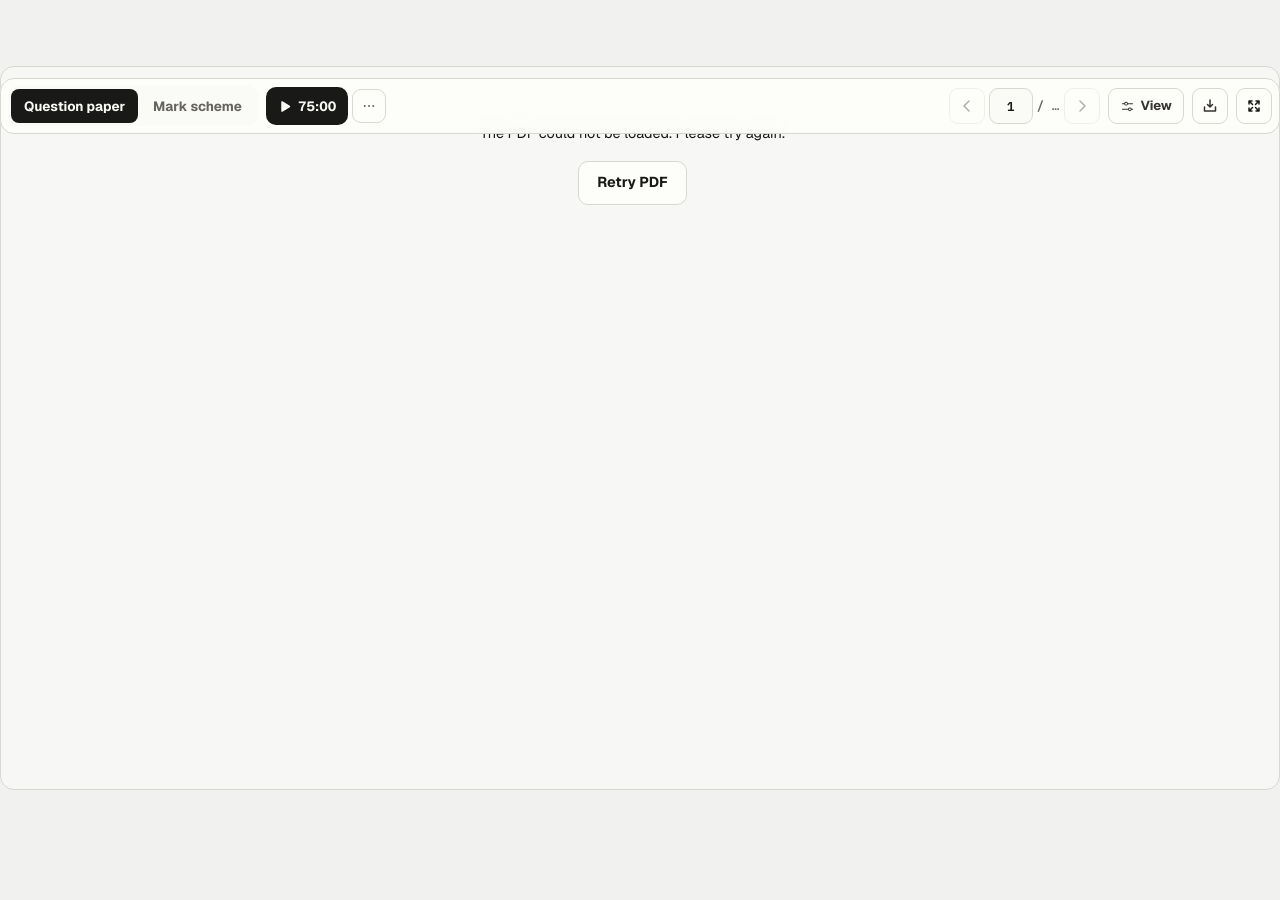
PastPaperReader › recovers from a failed PDF fetch with an explicit retry
The width and height of the screenshot is (1280, 900).
Expected: the message shows "The PDF could not be loaded", [480,124,785,142]
Click the button "Retry PDF" at (632, 183), box [578,161,687,205]
(page scrolled)
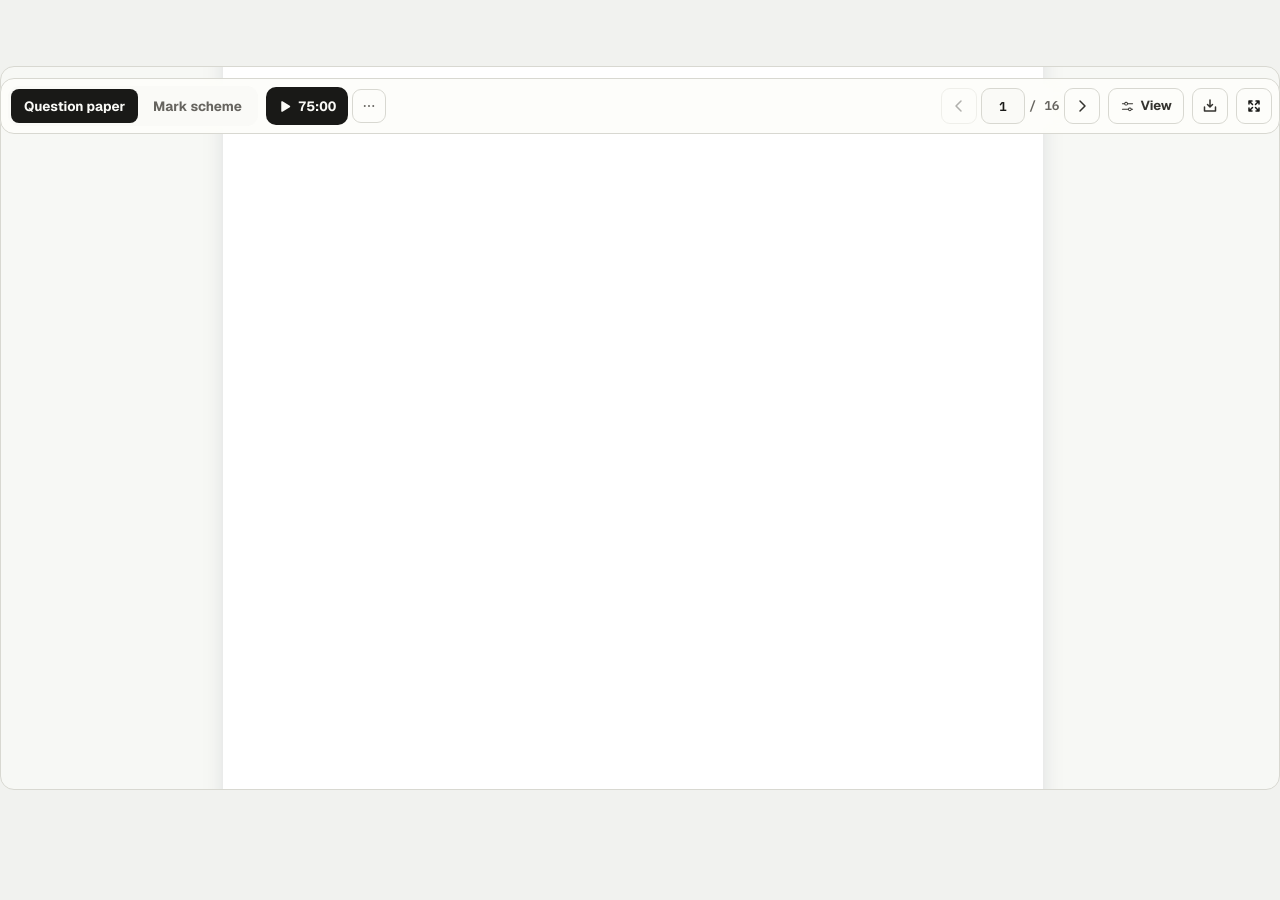
Result: the picture named "Question paper, page 1" is shown at [222,66,1042,790]
